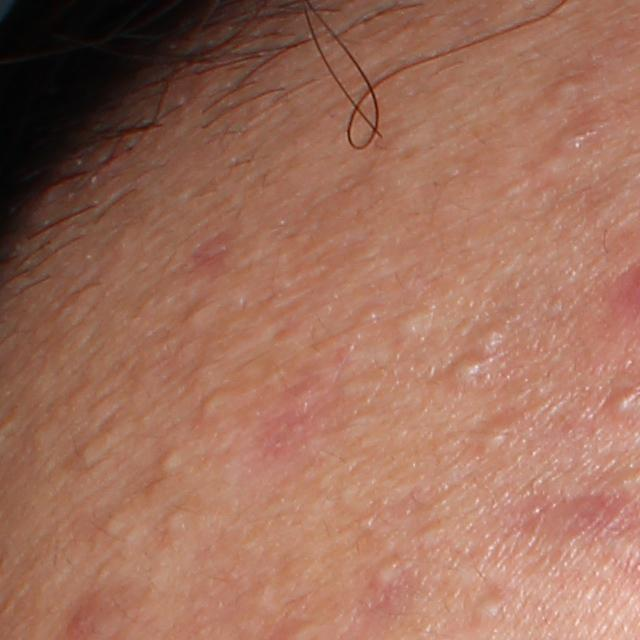comedo: (72, 428, 113, 468), (540, 75, 589, 105), (473, 414, 508, 456), (448, 356, 493, 384), (388, 309, 428, 339), (557, 126, 593, 159), (468, 590, 505, 622), (182, 296, 218, 327), (195, 389, 229, 421), (475, 322, 510, 350), (370, 557, 400, 587), (159, 441, 188, 471), (160, 507, 190, 533), (102, 511, 127, 538), (358, 302, 387, 325)
